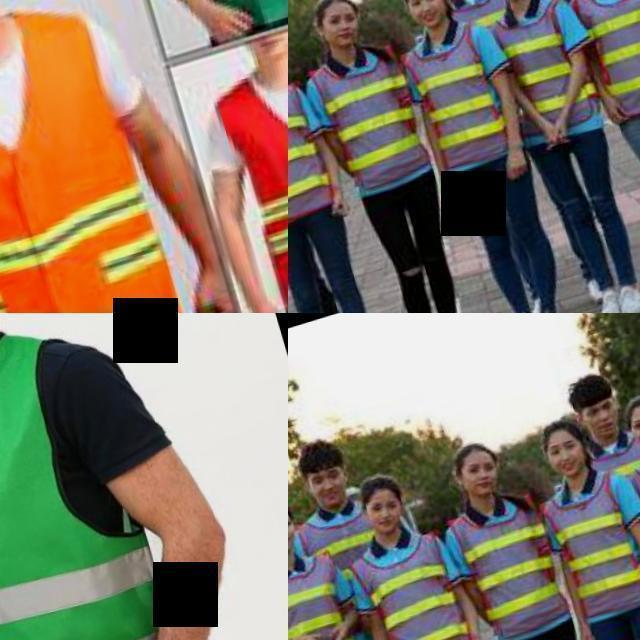vest: (0, 324, 191, 640), (0, 0, 183, 313), (199, 49, 288, 313), (393, 30, 519, 183), (485, 2, 603, 156), (531, 478, 640, 632), (313, 57, 428, 186), (452, 506, 567, 635), (355, 537, 478, 640), (574, 0, 640, 138), (288, 551, 366, 640), (288, 88, 339, 221)
